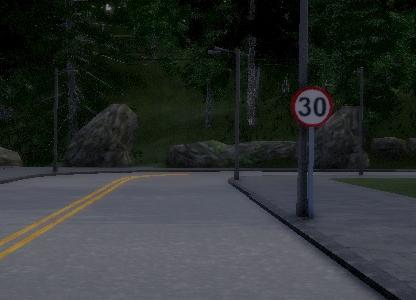Speed_30: (289, 85, 335, 130)
